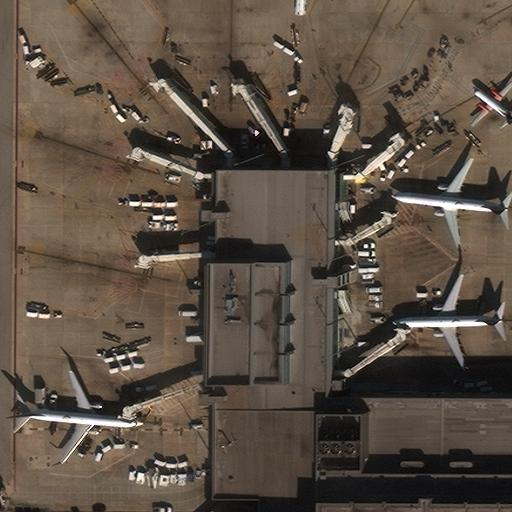Medium Civil Transport: (14, 370, 143, 464), (391, 157, 508, 248), (391, 273, 504, 367), (469, 79, 511, 124)
